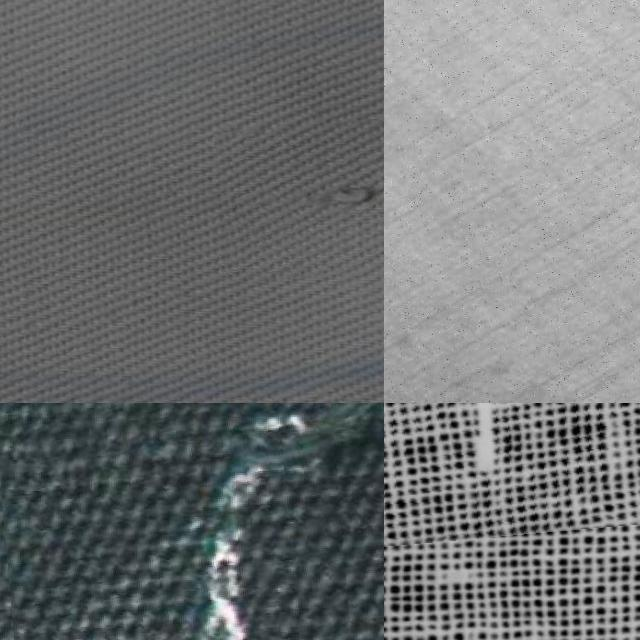stains: (0, 403, 384, 640), (384, 403, 640, 546), (217, 117, 384, 278)
